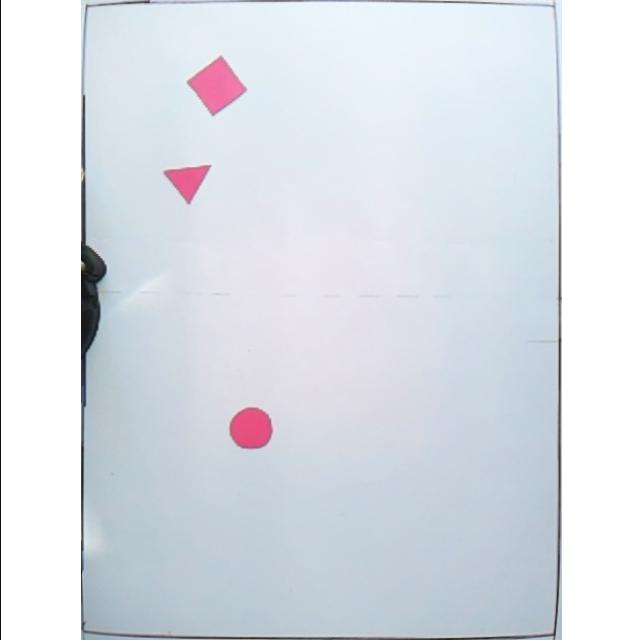pinkCircle: (226, 407, 270, 451)
pinkSquare: (184, 55, 246, 115), (158, 162, 210, 206)
